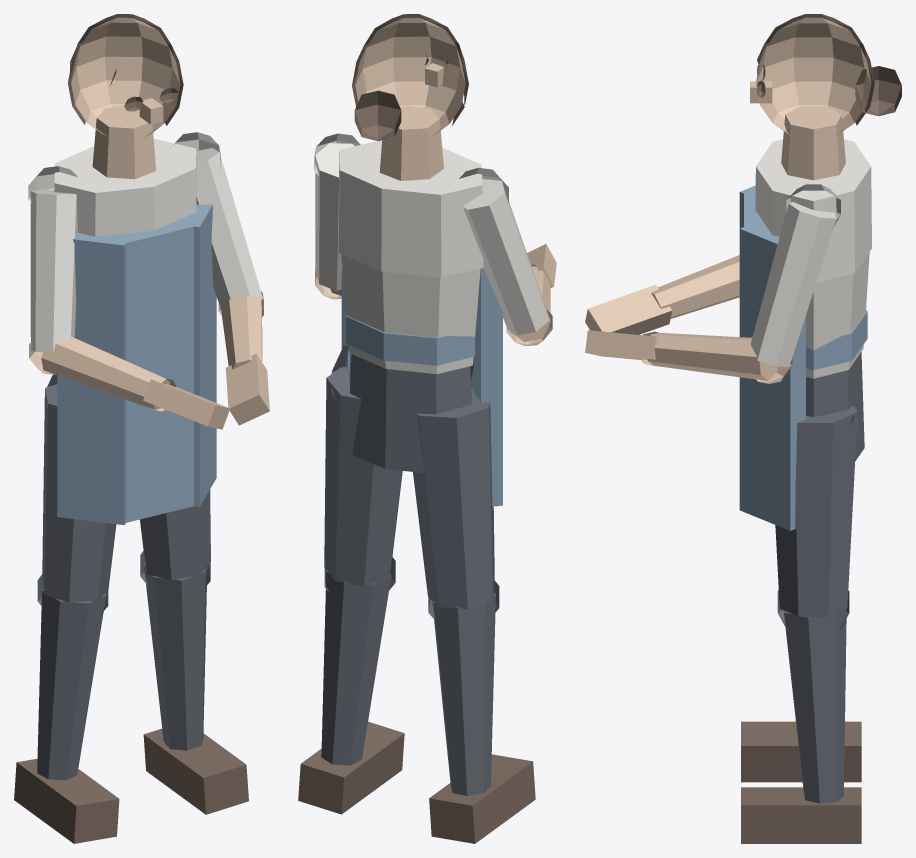
The model's file is low-poly-character-figures-shop-worker-standing-44c74d70.glb.
The picture shows the model from 3 angles, left to right: view 1: azimuth 30°, elevation 25°; view 2: azimuth 150°, elevation 25°; view 3: azimuth 270°, elevation 25°; orthographic projection.
Parts seen in each view (by area): view 1: shop-worker-standing; view 2: shop-worker-standing; view 3: shop-worker-standing.
Part boxes in pixels (bbox=[...]): shop-worker-standing: bbox=[14, 14, 269, 843]; shop-worker-standing: bbox=[298, 14, 556, 843]; shop-worker-standing: bbox=[585, 14, 901, 843].
Size of the model in its own units: 0.511 by 1.67 by 0.6095.
